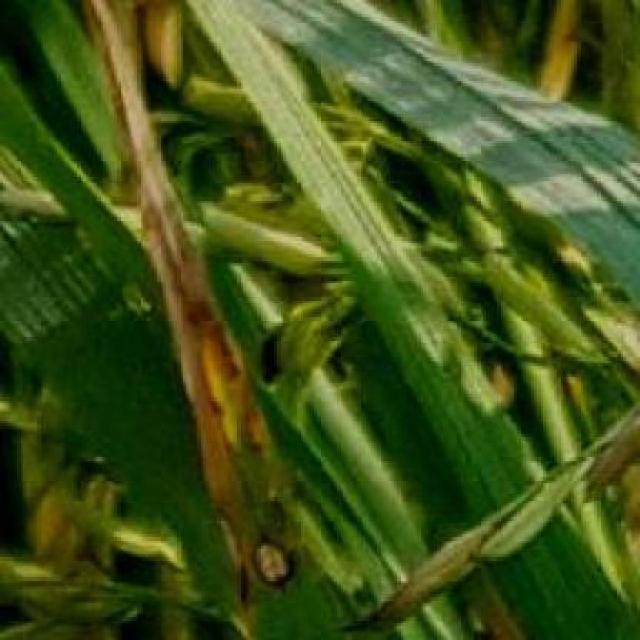Brown_Spot: (48, 0, 297, 591), (509, 158, 640, 504)
